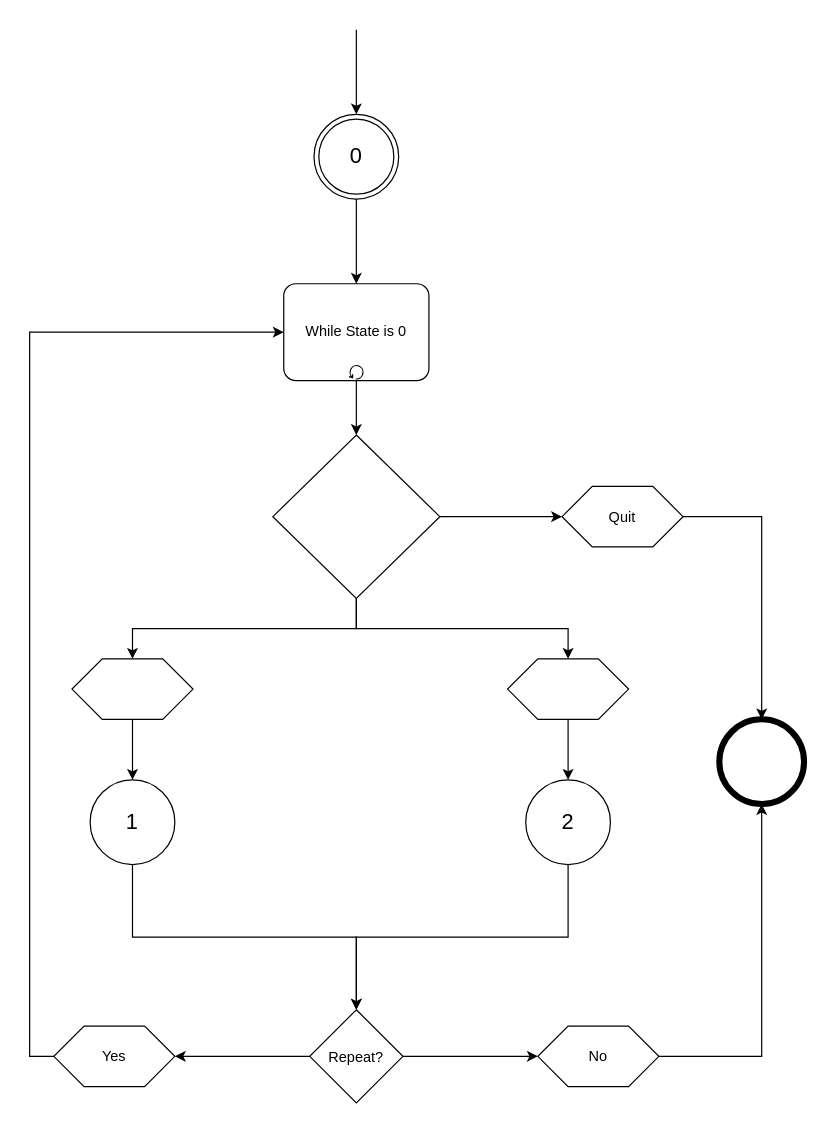
Some shapes in this 828 by 1124 pixel diagram are drawn without their labels. Each missing label, with the centre of its shape:
"File" belongs at pixel 132 688.
"Keyboard" belongs at pixel 567 688.
"Read from File or use Keyboard or Quit?" belongs at pixel 356 516.
"Stop" belongs at pixel 761 761.
